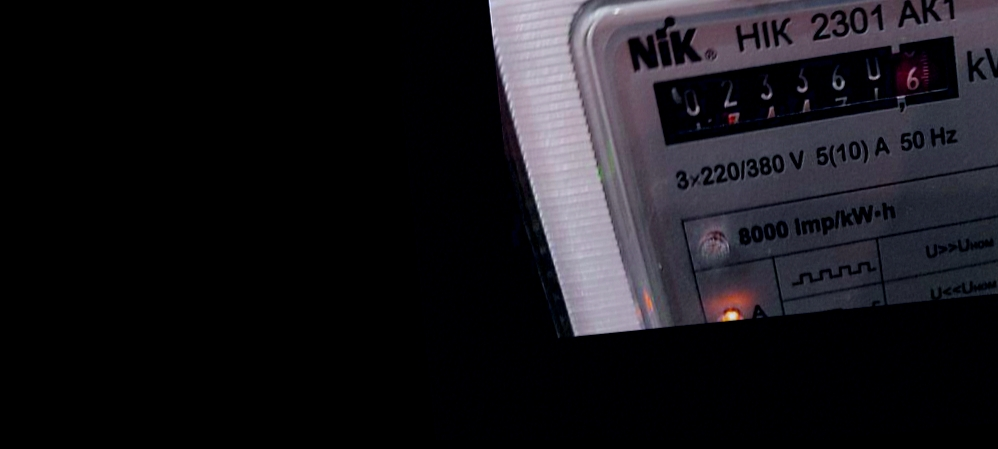0: (679, 84, 704, 120), (860, 52, 885, 85)
2: (717, 75, 741, 110)
3: (790, 61, 813, 96), (753, 71, 775, 104)
6: (825, 59, 850, 94), (901, 61, 925, 96)
screen: (634, 26, 980, 154)
